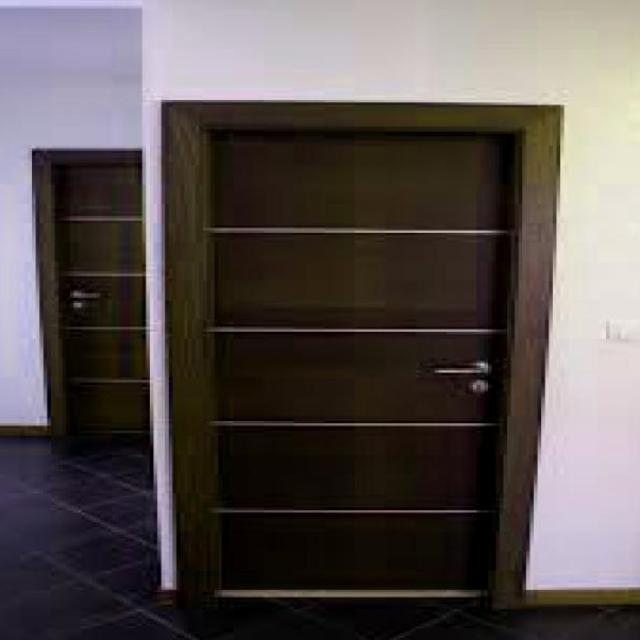door: (161, 79, 600, 606), (44, 153, 158, 424)
